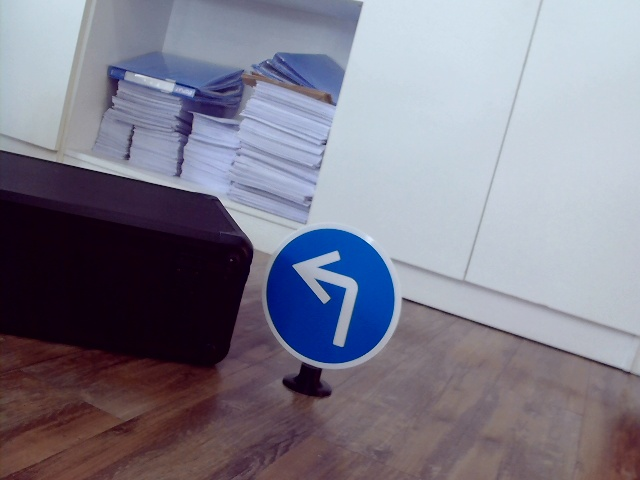turn_left: (290, 246, 362, 347)
